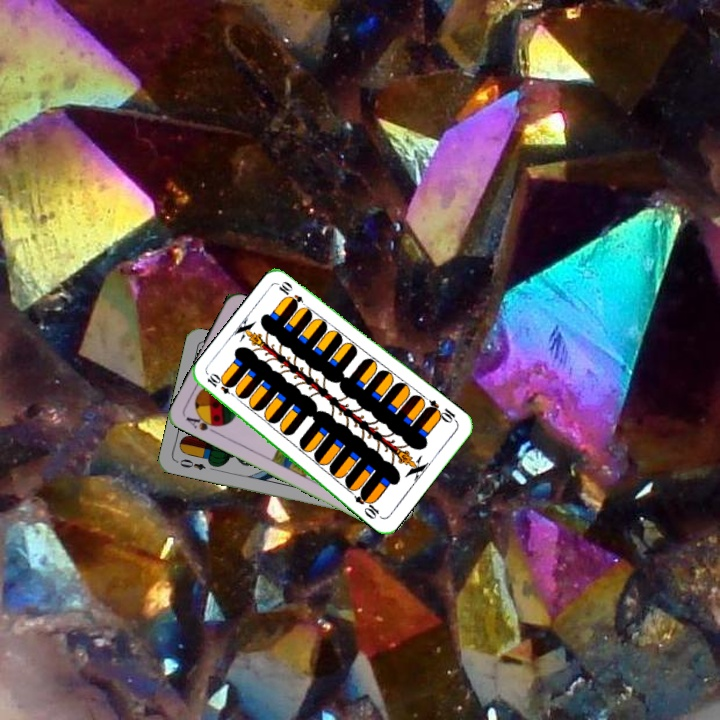E10: (203, 370, 240, 401), (422, 396, 460, 426)
EO: (176, 455, 208, 473)
SA: (182, 410, 223, 436)
